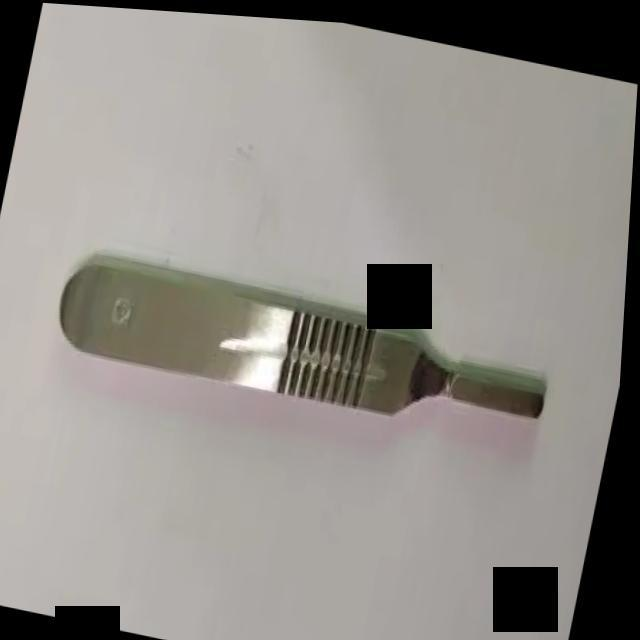Knife handle: (45, 223, 573, 471)
